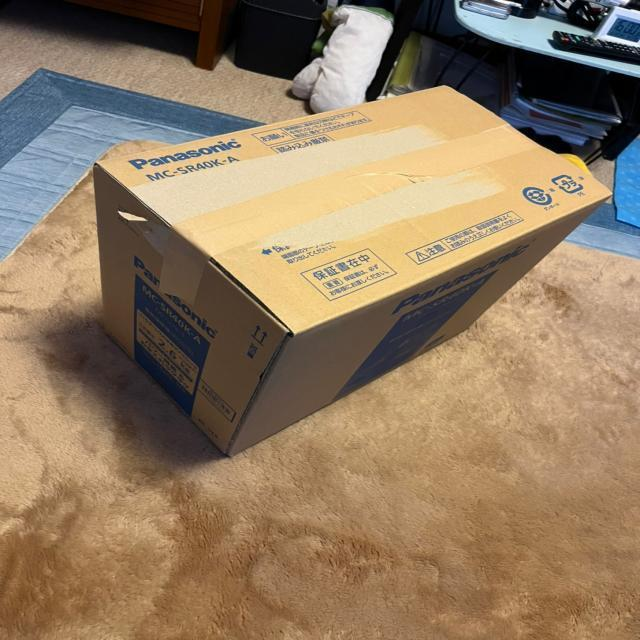box: (85, 75, 623, 461)
